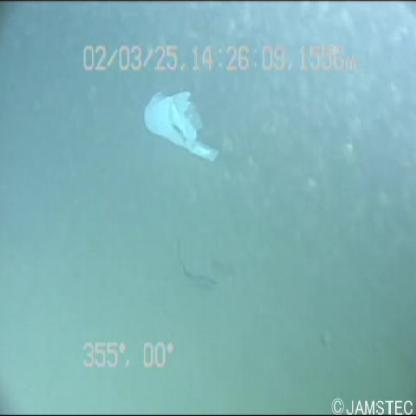Rác: (132, 84, 227, 171)
